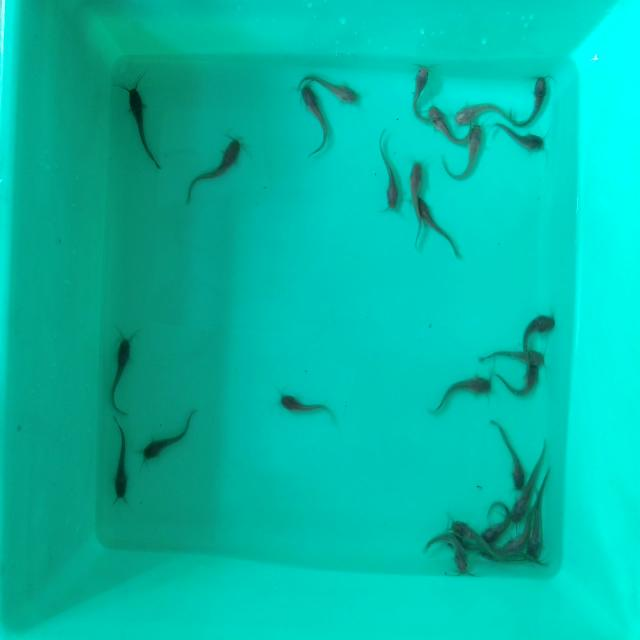lele: (184, 135, 240, 198), (505, 70, 549, 127), (140, 420, 194, 464), (433, 375, 493, 414), (420, 194, 460, 252), (296, 82, 327, 156), (376, 133, 404, 210), (491, 422, 524, 487), (126, 82, 155, 154), (490, 126, 545, 162), (420, 536, 469, 576), (110, 334, 135, 412), (459, 124, 482, 203), (411, 53, 433, 131), (280, 389, 332, 420), (519, 310, 560, 349), (316, 73, 363, 106), (496, 365, 542, 397), (406, 154, 422, 243), (528, 487, 548, 558), (428, 104, 459, 149), (112, 426, 130, 501), (456, 94, 504, 122), (480, 347, 548, 366), (528, 434, 549, 484), (481, 504, 508, 542), (451, 516, 481, 542), (512, 483, 531, 522), (498, 529, 528, 553), (472, 542, 493, 564)
